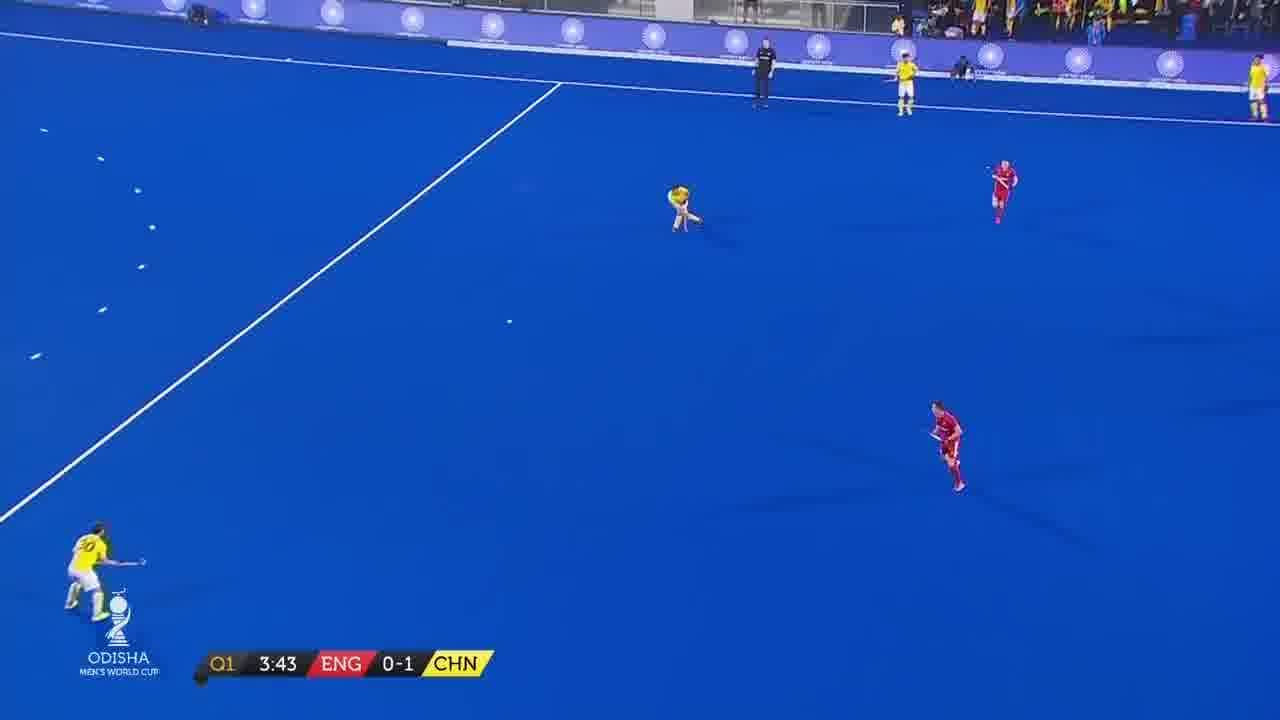ball: (498, 308, 522, 332)
